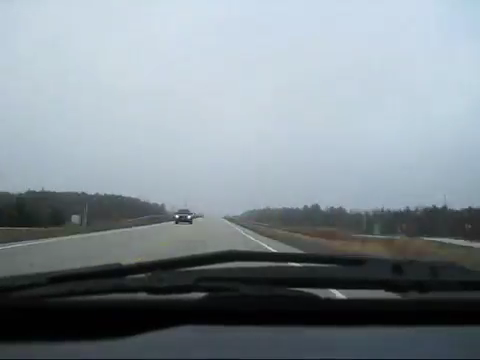car: (174, 208, 194, 225)
